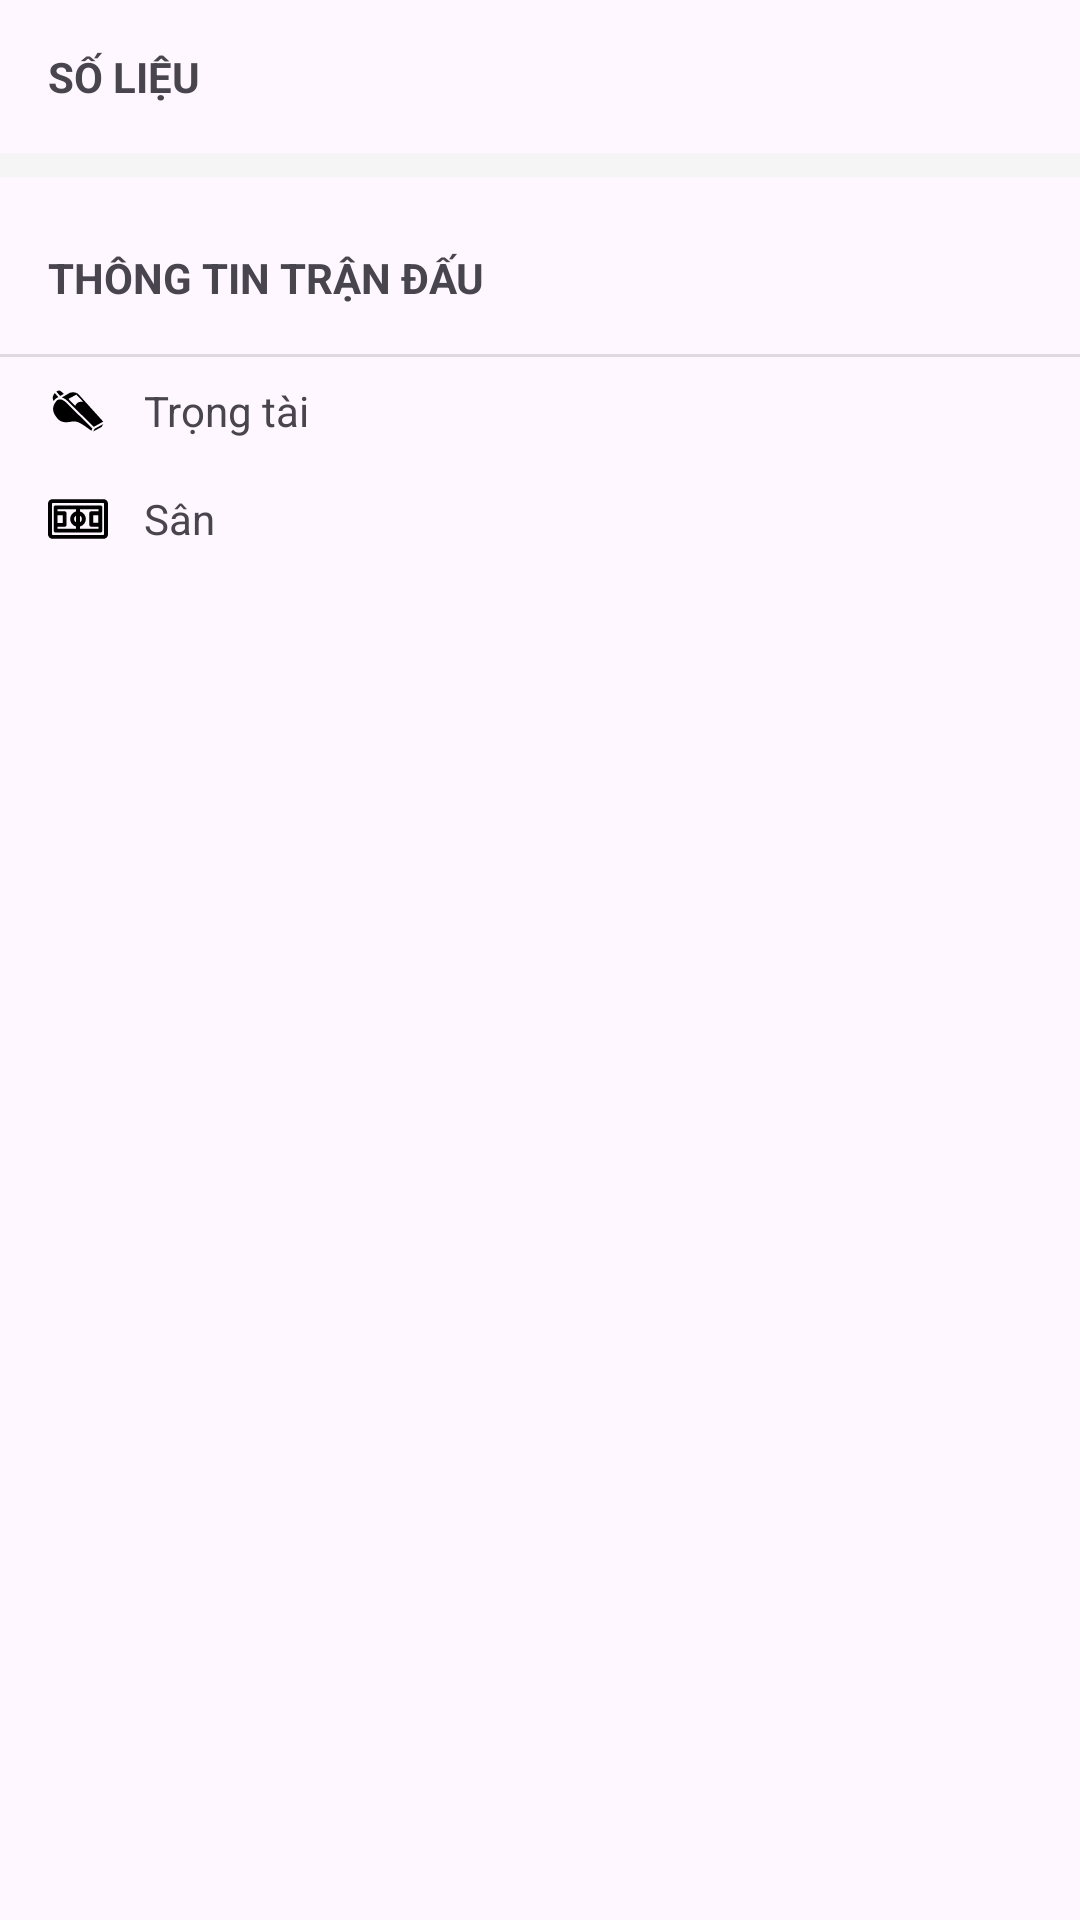

Icon click points for this 1080×1920 phone screenshot, format (x=x, y=y):
field: (x=78, y=519)
whistle: (x=77, y=411)
